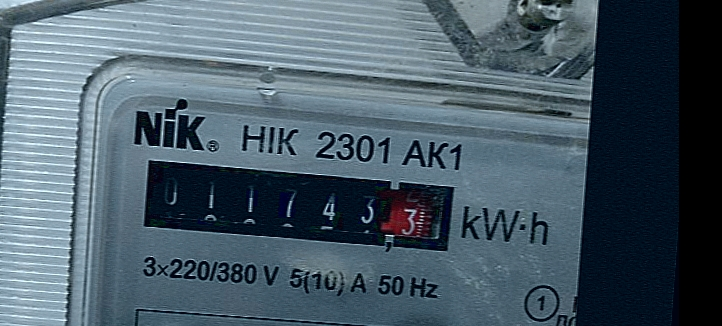0: (159, 170, 181, 207)
1: (242, 177, 259, 212), (205, 175, 218, 208)
3: (355, 189, 377, 225), (399, 204, 419, 238)
4: (319, 186, 338, 221)
7: (280, 182, 300, 217)
screen: (128, 145, 468, 263)
